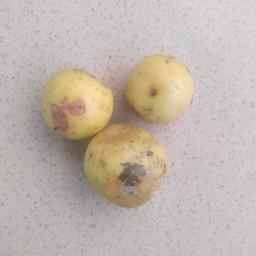Bad_lime: (81, 127, 171, 208), (121, 49, 198, 126), (40, 63, 116, 141)
